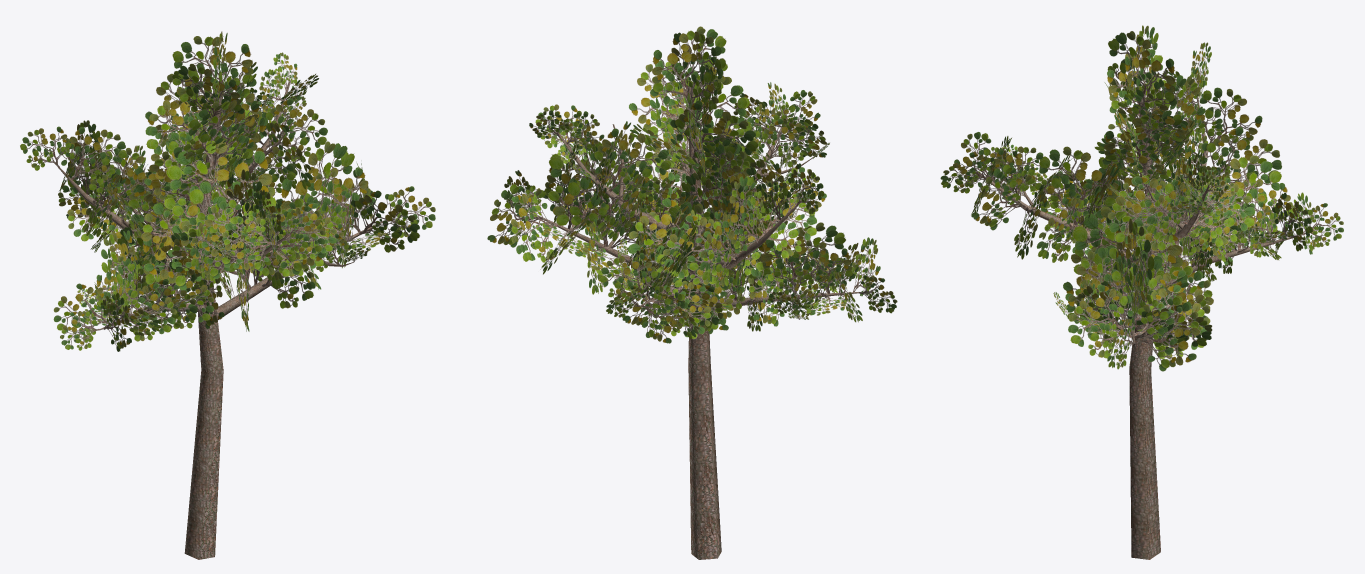
The picture shows the model from 3 angles, left to right: view 1: azimuth 30°, elevation 25°; view 2: azimuth 150°, elevation 25°; view 3: azimuth 270°, elevation 25°; orthographic projection.
Visible parts, largest first — view 1: Trunk, Branch0015, Branch00122, Branch004, Branch0054, Branch0042, Branch0019, Branch003, Branch00124, Branch008, Branch0055, Branch0059 (+48 smaller); view 2: Trunk, Branch004, Branch00123, Branch00124, Branch0073, Branch0011, Branch00122, Branch0031, Branch0049, Branch0053, Branch0064, Branch0050 (+48 smaller); view 3: Trunk, Branch0033, Branch0034, Branch00123, Branch0020, Branch0019, Branch0063, Branch00125, Branch004, Branch0049, Branch0037, Branch0068 (+34 smaller).
Part boxes in pixels (bbox=[...]): Trunk: bbox=[184, 90, 223, 559]; Branch0015: bbox=[166, 140, 281, 251]; Branch00122: bbox=[172, 36, 256, 101]; Branch004: bbox=[281, 141, 354, 240]; Branch0054: bbox=[183, 100, 259, 165]; Branch0042: bbox=[141, 198, 217, 290]; Branch0019: bbox=[350, 190, 419, 252]; Branch003: bbox=[300, 167, 375, 237]; Branch00124: bbox=[145, 87, 213, 175]; Branch008: bbox=[58, 127, 127, 183]; Branch0055: bbox=[172, 63, 244, 124]; Branch0059: bbox=[261, 98, 327, 161]; Trunk: bbox=[688, 86, 721, 559]; Branch004: bbox=[548, 139, 650, 246]; Branch00123: bbox=[650, 26, 727, 109]; Branch00124: bbox=[670, 100, 758, 170]; Branch0073: bbox=[756, 222, 845, 294]; Branch0011: bbox=[590, 128, 671, 198]; Branch00122: bbox=[667, 31, 725, 110]; Branch0031: bbox=[511, 191, 557, 262]; Branch0049: bbox=[722, 176, 765, 253]; Branch0053: bbox=[628, 60, 700, 139]; Branch0064: bbox=[749, 184, 817, 258]; Branch0050: bbox=[663, 215, 735, 284]; Trunk: bbox=[1129, 98, 1160, 559]; Branch0033: bbox=[1073, 206, 1187, 315]; Branch0034: bbox=[1035, 146, 1118, 225]; Branch00123: bbox=[1107, 31, 1177, 115]; Branch0020: bbox=[1134, 296, 1199, 371]; Branch0019: bbox=[1068, 284, 1133, 358]; Branch0063: bbox=[1108, 176, 1187, 250]; Branch00125: bbox=[1102, 110, 1185, 169]; Branch004: bbox=[1114, 218, 1154, 324]; Branch0049: bbox=[1188, 87, 1262, 152]; Branch0037: bbox=[971, 164, 1034, 230]; Branch0068: bbox=[1199, 126, 1281, 197].
Bounding box in the file's own units: 419 × 531 × 380.
Materials: 2 (2 with a texture image).
